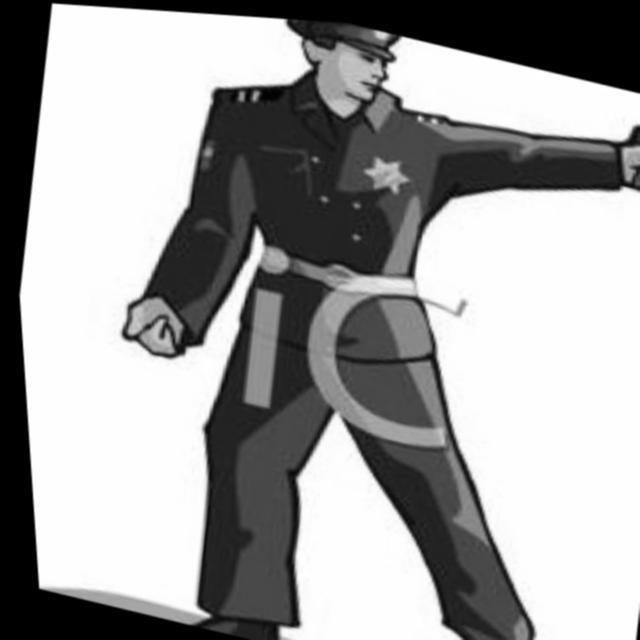weapon: (611, 104, 640, 200)
